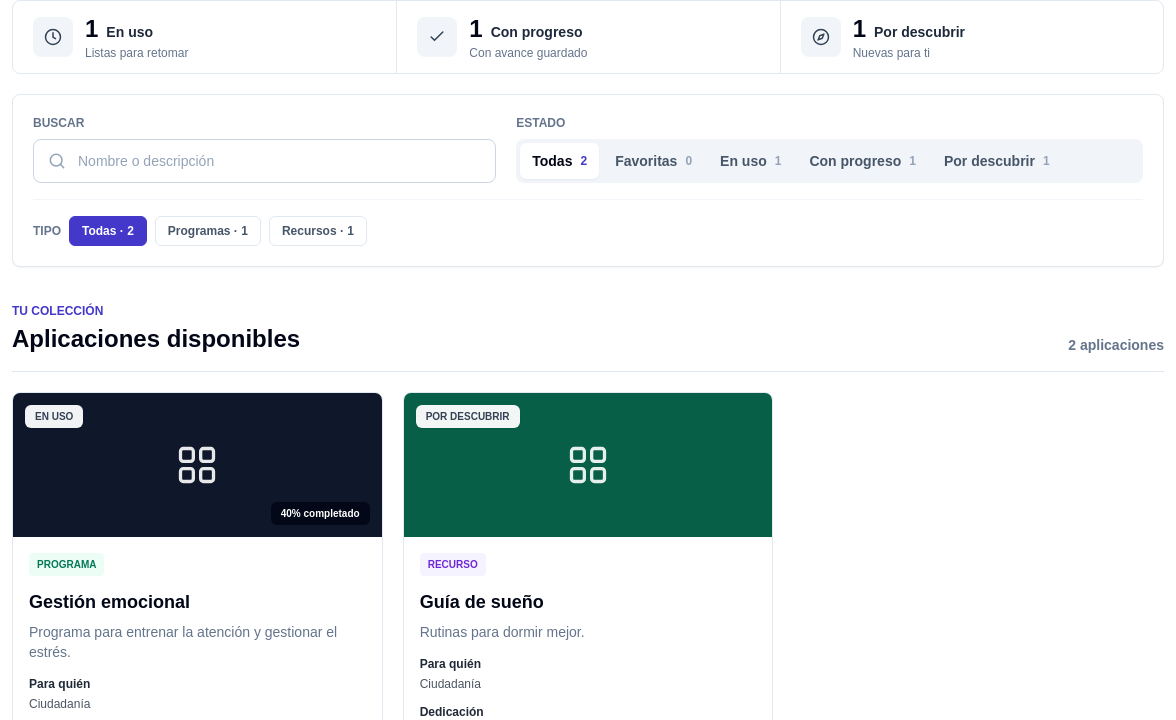
Scenario: ApplicationLauncher › filtra por estado, busca sin acentos y permite limpiar los filtros
Expected: the heading "Gestión emocional" is shown, 29,592 -> 190,612
Expected: the heading "Guía de sueño" is shown, 420,592 -> 544,612
Step 1. Click the button "En uso 1" → [751, 161], box 708,143 -> 794,179
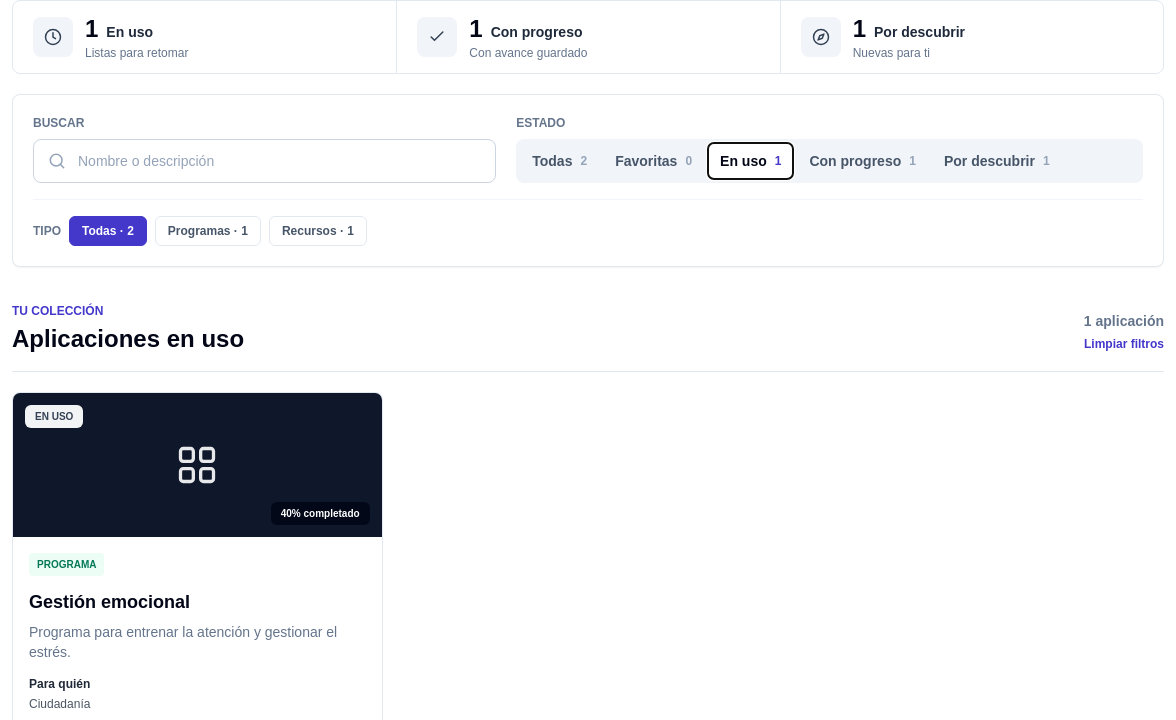
Expected: the heading "Gestión emocional" is shown, 29,592 -> 190,612
Result: the link "Guía de sueño" is gone
Result: the heading "Aplicaciones en uso" is shown at 12,323 -> 244,355
Step 2. Type "gestion" into the search field named "Buscar una aplicación" → [265, 161], box 33,139 -> 496,183
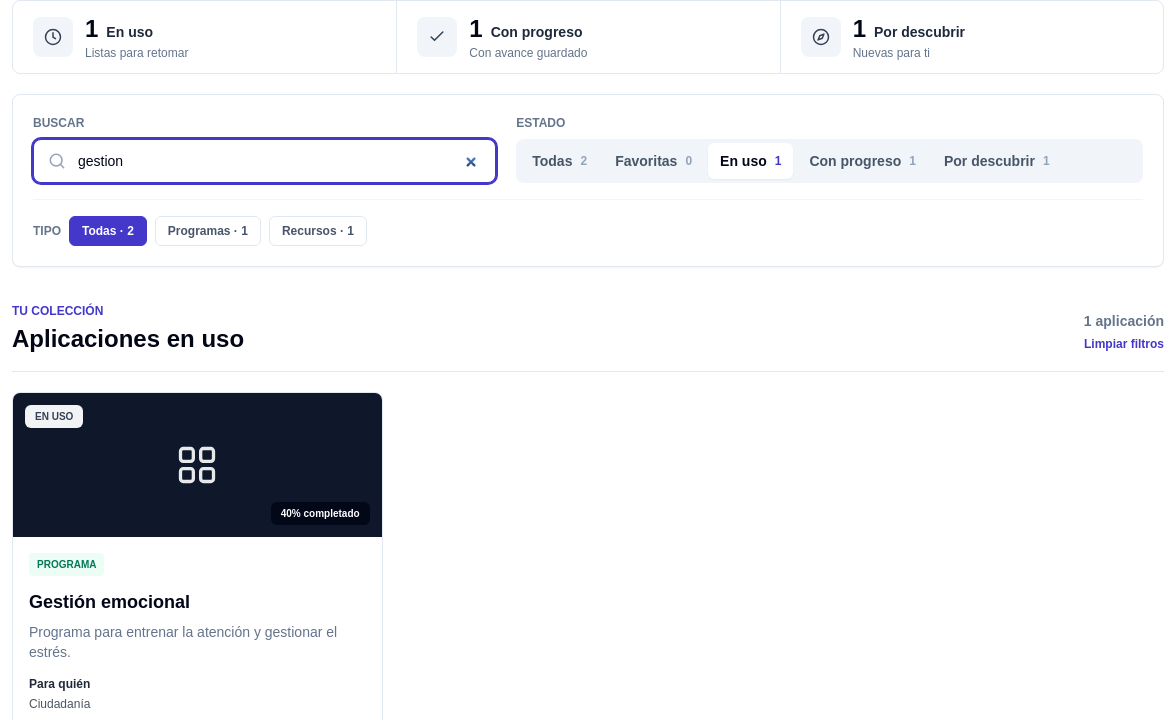
Expected: the heading "Gestión emocional" is shown, 29,592 -> 190,612
Step 3. Click the button "Limpiar filtros" → [1124, 344], box 1084,336 -> 1164,352
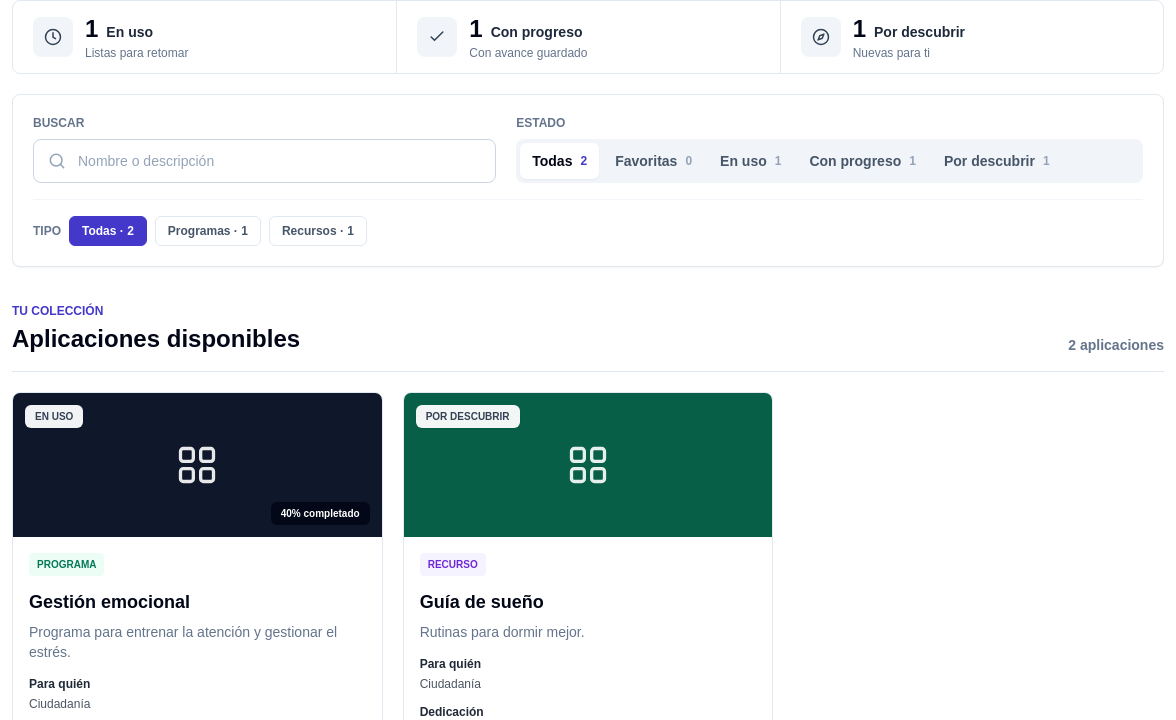
Expected: the heading "Gestión emocional" is shown, 29,592 -> 190,612
Result: the heading "Aplicaciones disponibles" is shown at 12,323 -> 300,355
Result: the heading "Guía de sueño" is shown at 420,592 -> 544,612
